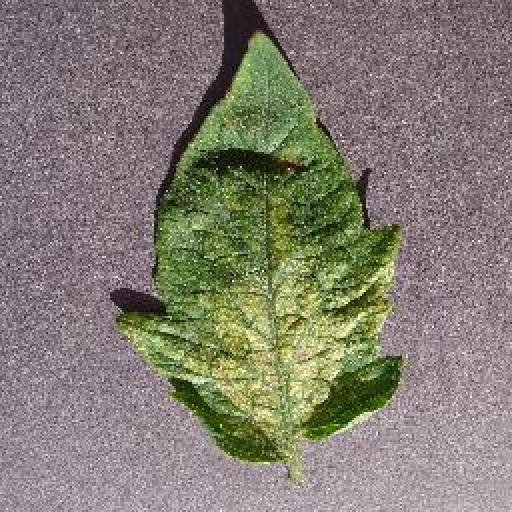disease_tomato: (117, 27, 408, 461)
